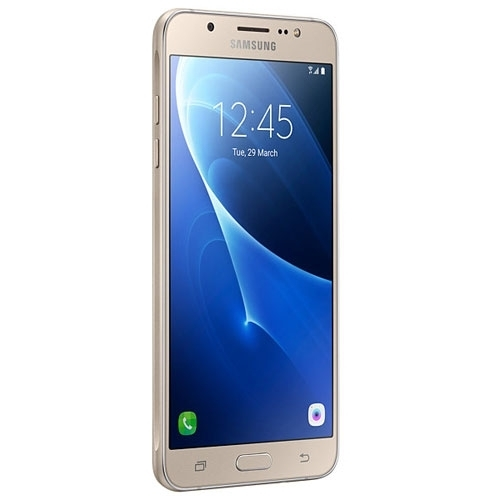mobile: (143, 1, 374, 494)
